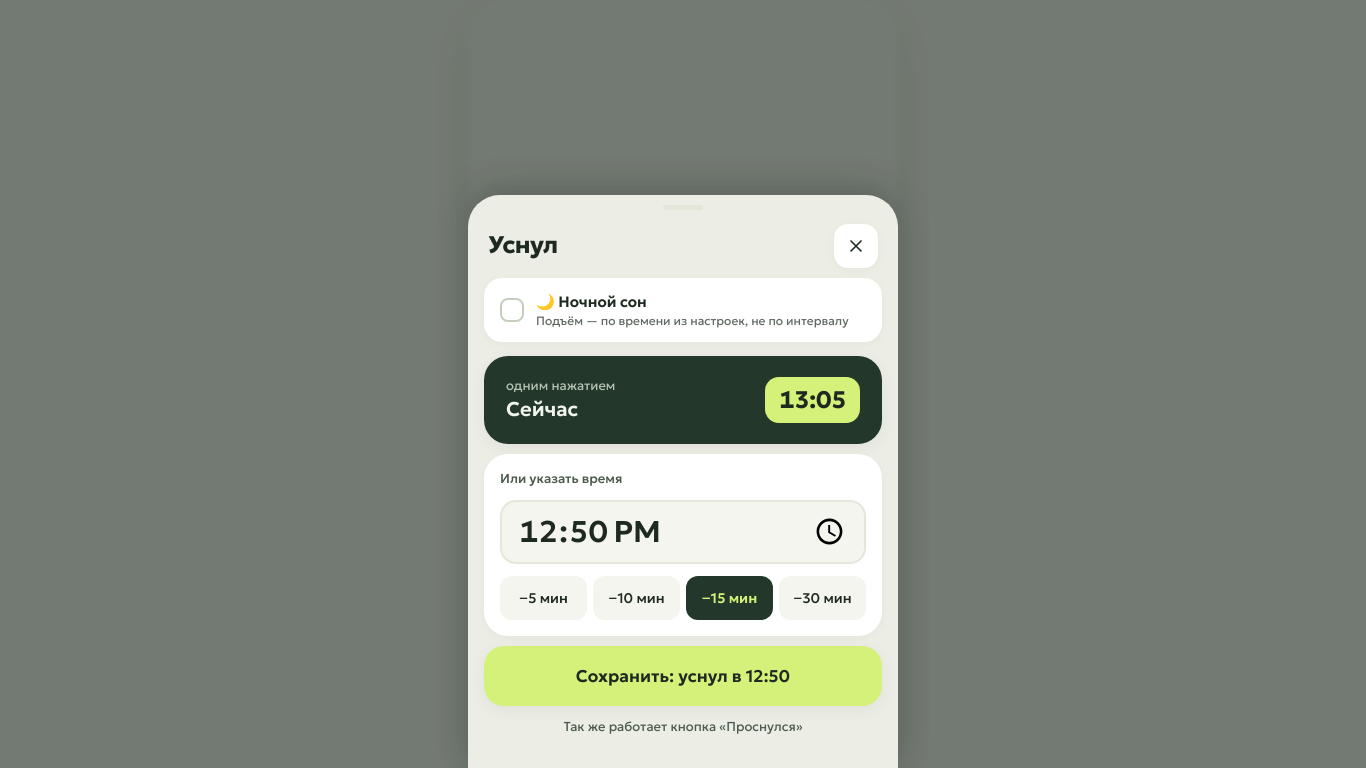
Test: SleepActionModal Component › adjusts input time and highlights active chip when clicking offset chips (-5, -10, -15, -30 min)
Click the button with test id "offset-chip-5" at (544, 598), box [500,576,587,620]
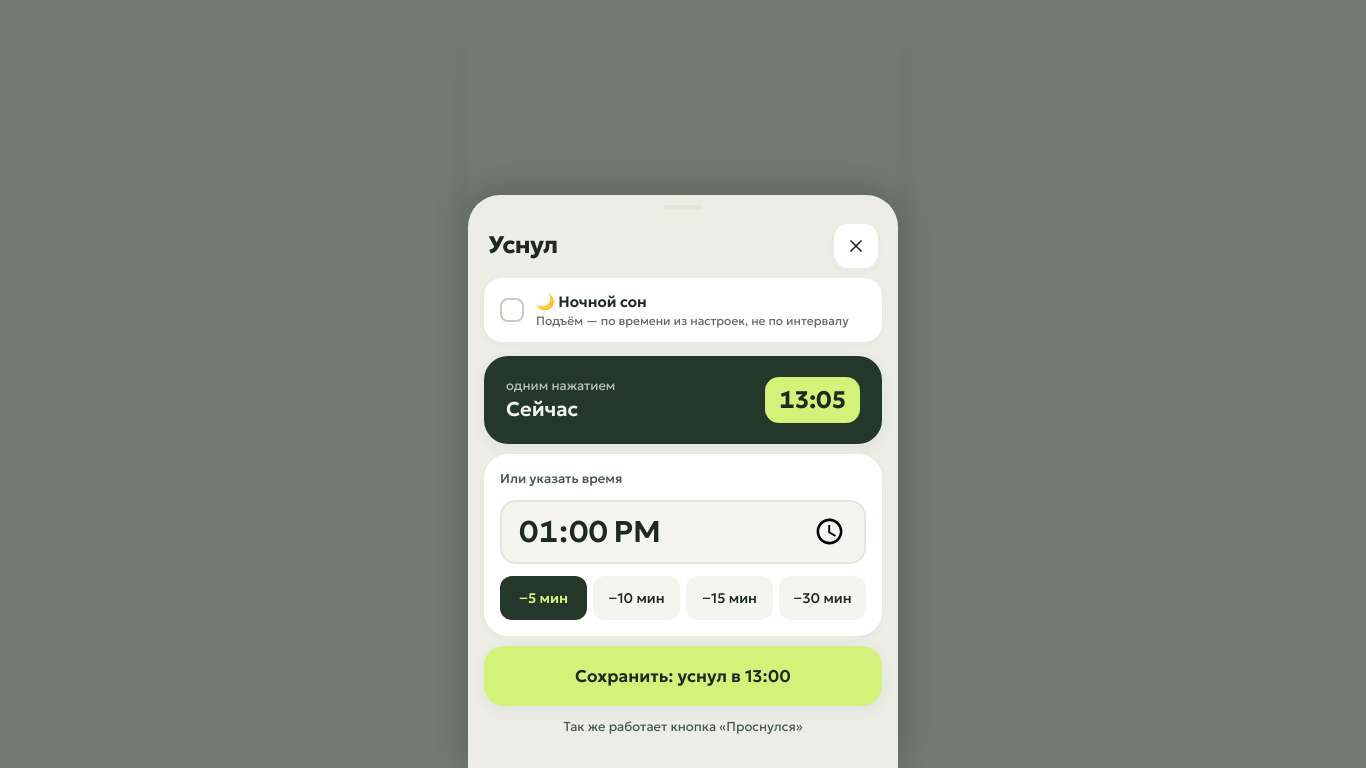
Result: the time field with test id "manual-time-input" holds "13:00" at [500,500,866,564]
Result: the button with test id "action-save-btn" reads "Сохранить: уснул в 13:00" at [484,646,882,706]
Click the button with test id "offset-chip-10" at (636, 598), box [593,576,680,620]
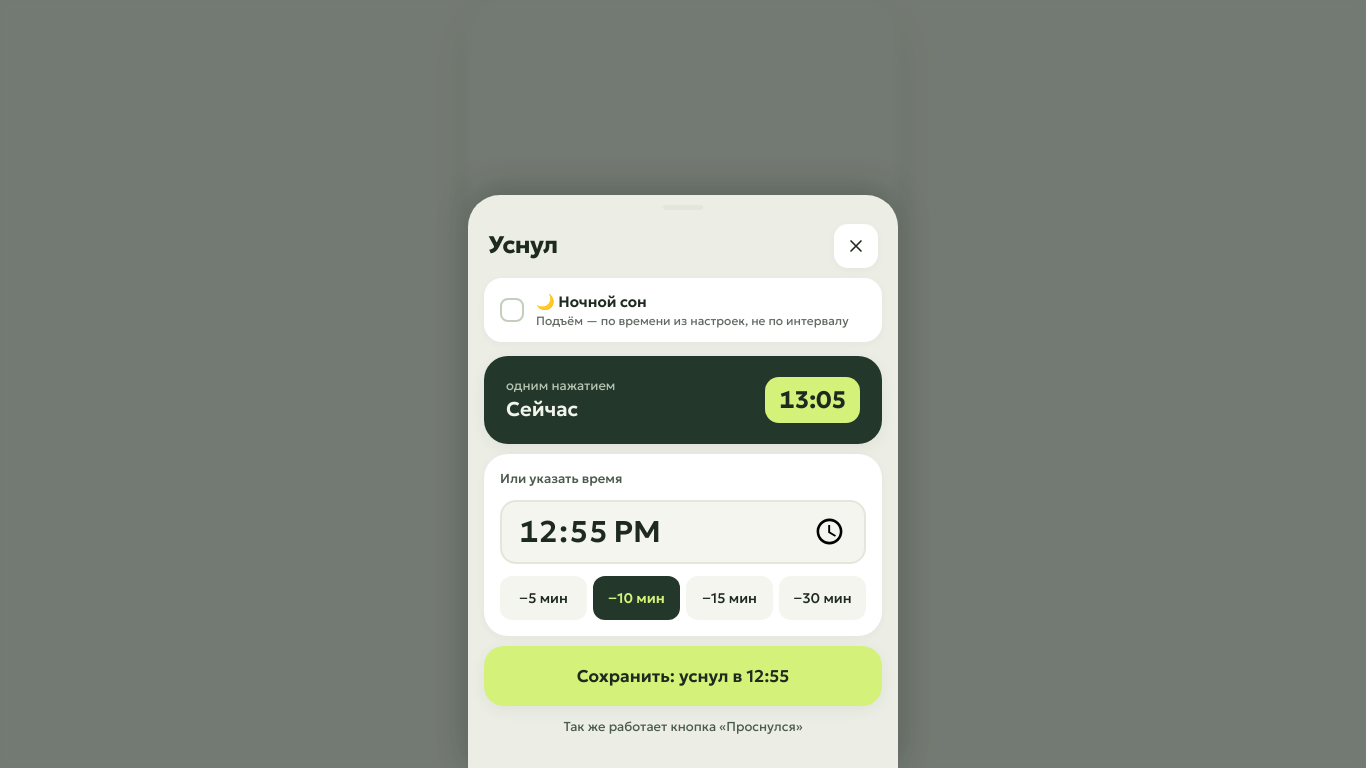
Result: the time field with test id "manual-time-input" holds "12:55" at [500,500,866,564]
Result: the button with test id "action-save-btn" reads "Сохранить: уснул в 12:55" at [484,646,882,706]
Click the button with test id "offset-chip-15" at (730, 598), box [686,576,773,620]
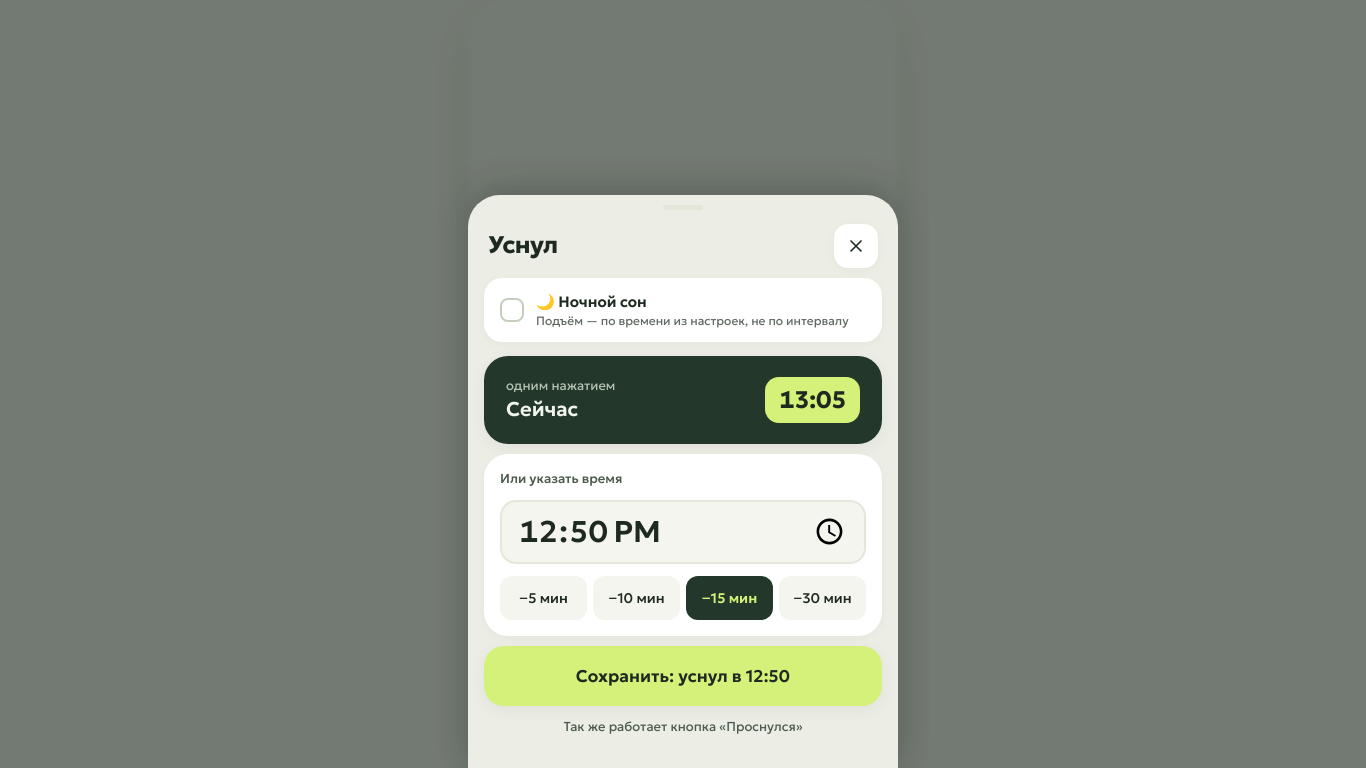
Result: the time field with test id "manual-time-input" holds "12:50" at [500,500,866,564]
Result: the button with test id "action-save-btn" reads "Сохранить: уснул в 12:50" at [484,646,882,706]
Click the button with test id "offset-chip-30" at (822, 598), box [779,576,866,620]
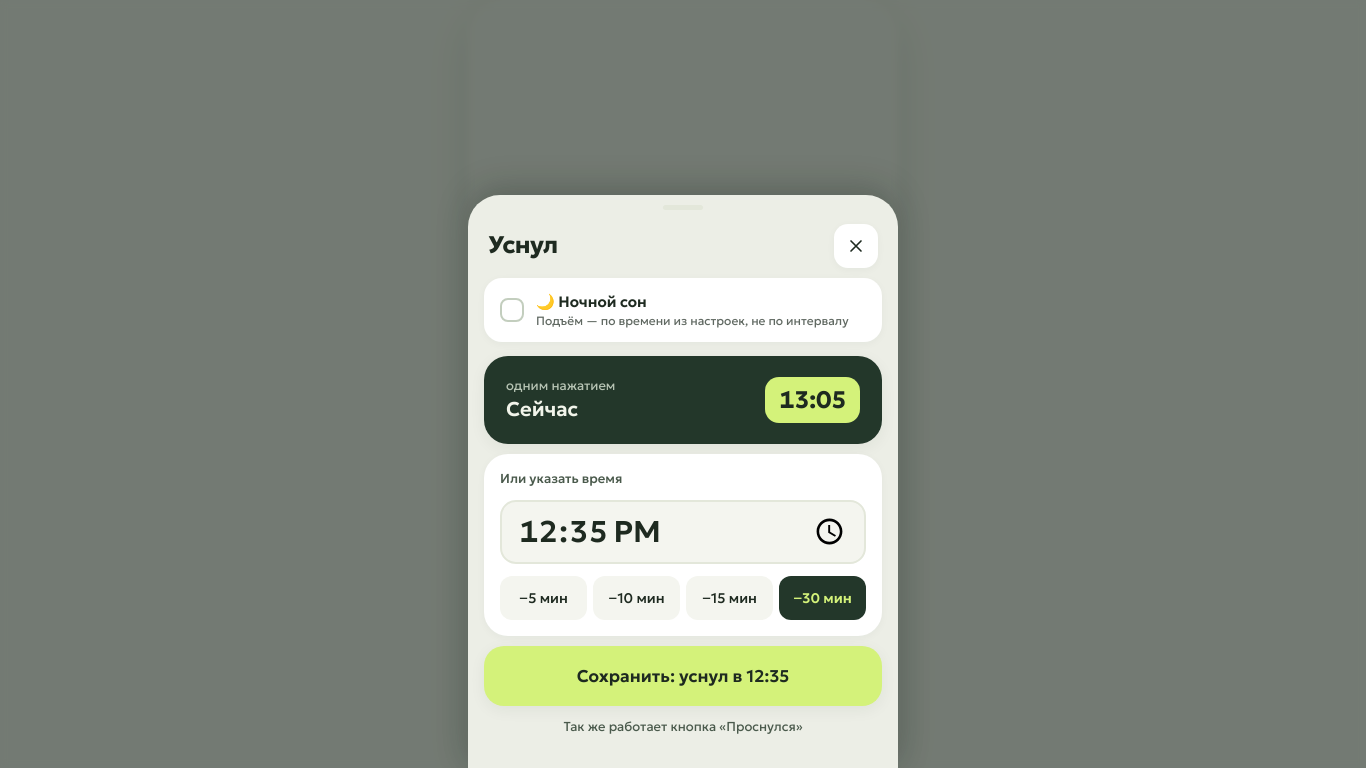
Result: the time field with test id "manual-time-input" holds "12:35" at [500,500,866,564]
Result: the button with test id "action-save-btn" reads "Сохранить: уснул в 12:35" at [484,646,882,706]
